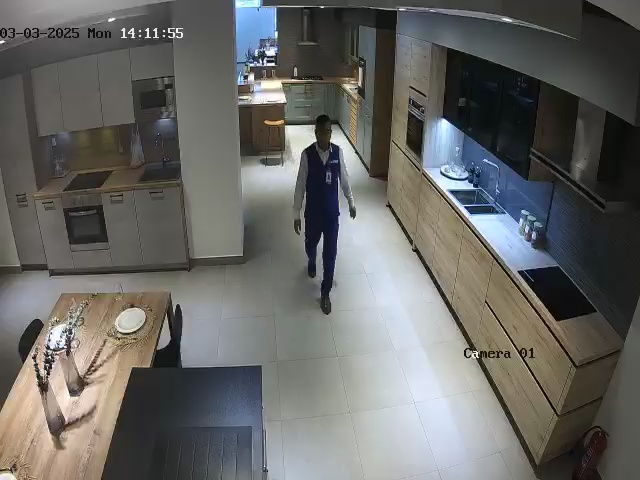employee: (292, 114, 356, 315)
